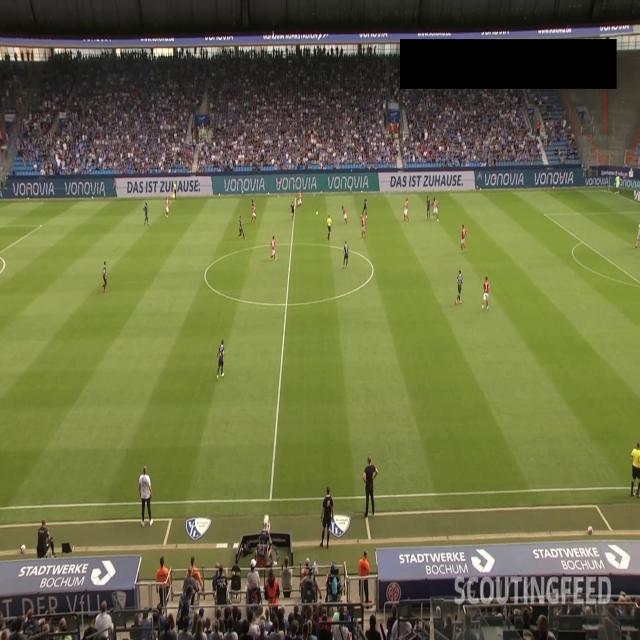ball: (313, 209, 320, 219)
player: (215, 340, 226, 382), (455, 270, 463, 306), (482, 275, 490, 309), (100, 258, 108, 290), (237, 214, 244, 240), (359, 215, 366, 239), (460, 223, 466, 250), (340, 202, 348, 222), (143, 199, 149, 225), (270, 234, 276, 260), (344, 241, 349, 270), (164, 196, 170, 218), (404, 192, 408, 222), (425, 195, 430, 218), (432, 197, 437, 220), (251, 203, 257, 222), (291, 199, 296, 220), (363, 189, 367, 215), (298, 188, 302, 207), (251, 196, 254, 210)
